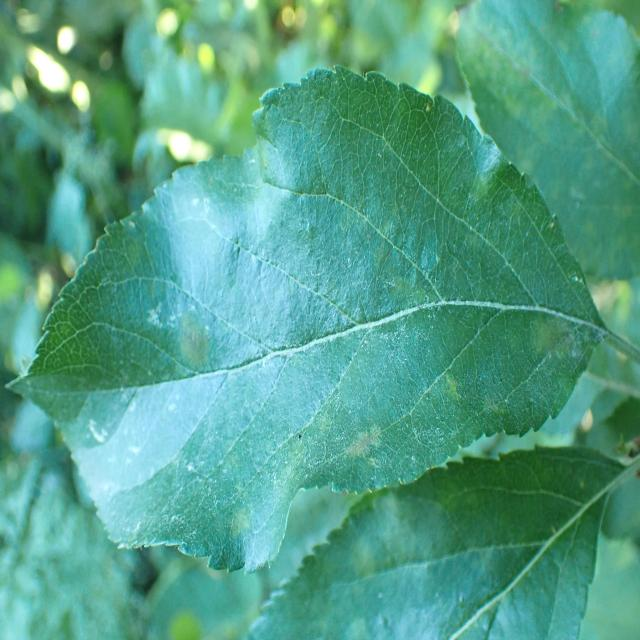scab: (76, 147, 574, 496), (306, 500, 478, 632)
